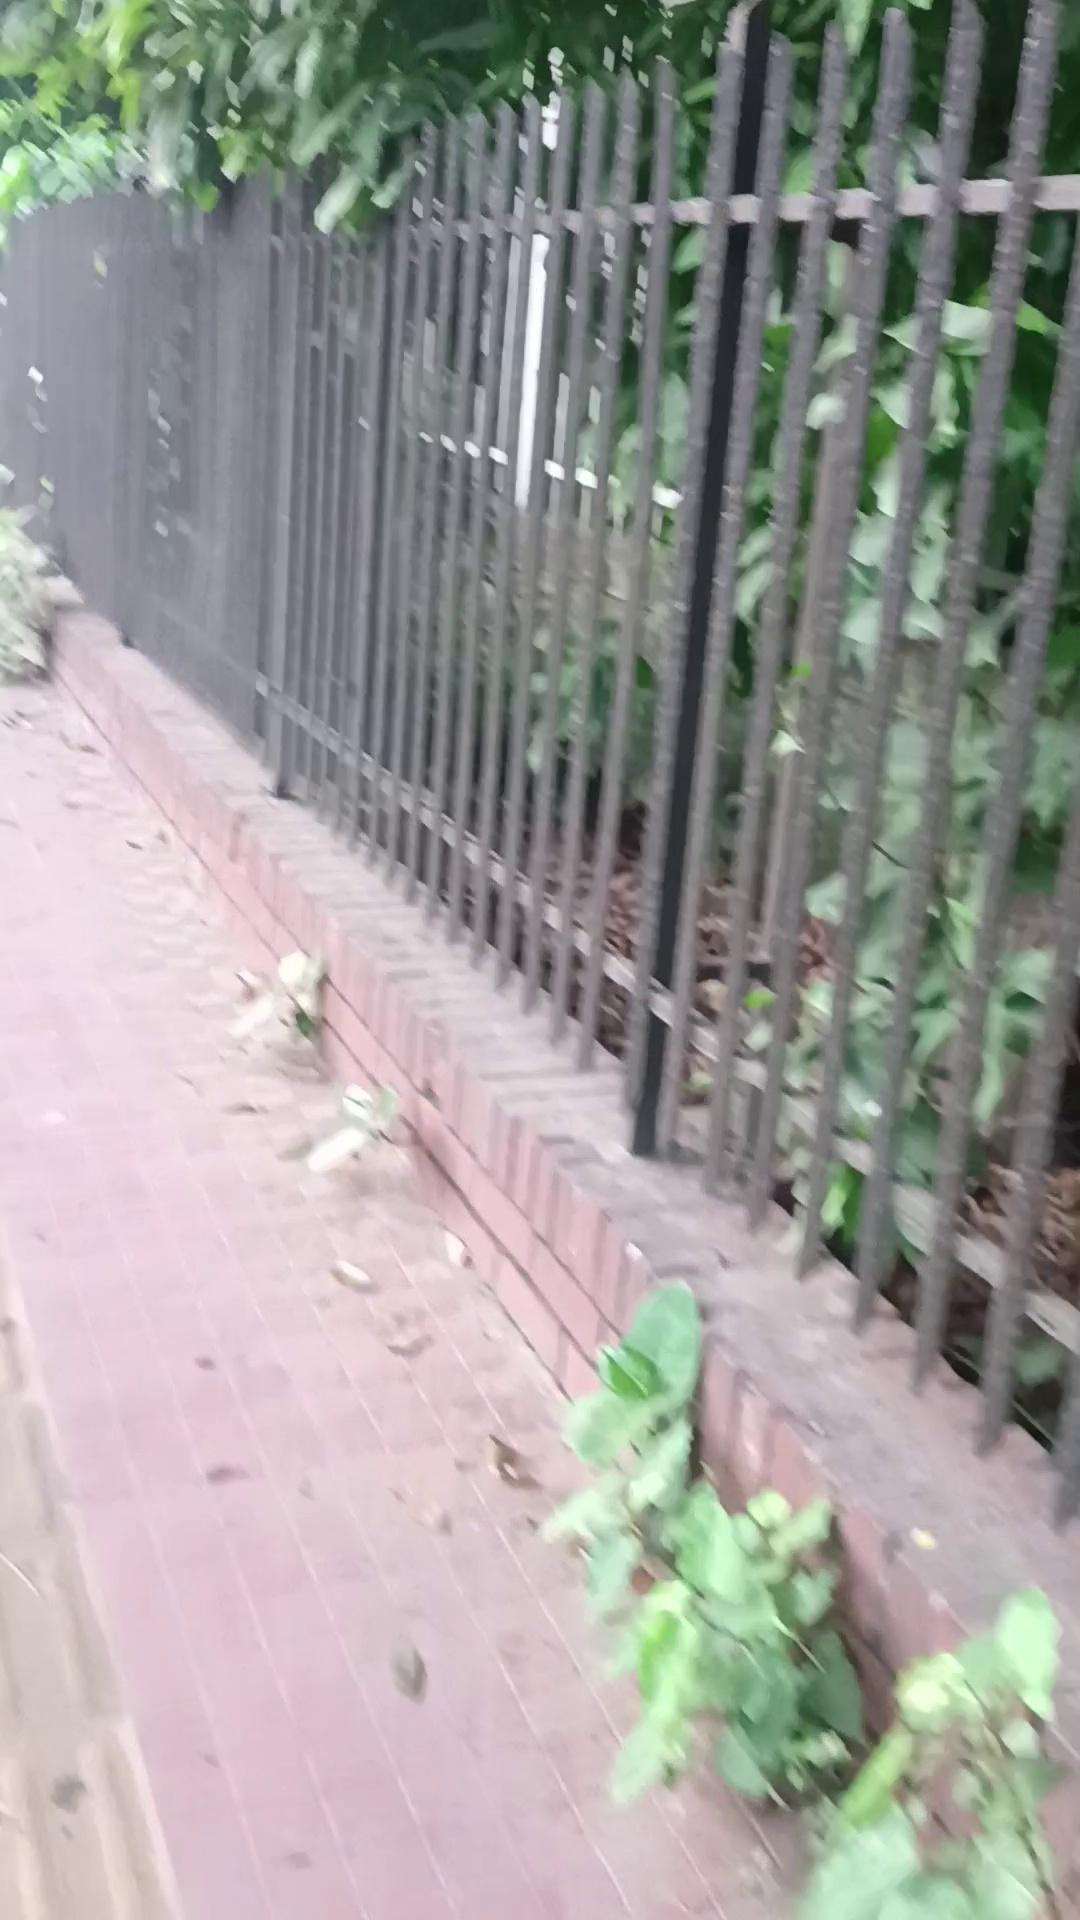Crosswalk: (32, 563, 1075, 1903)
